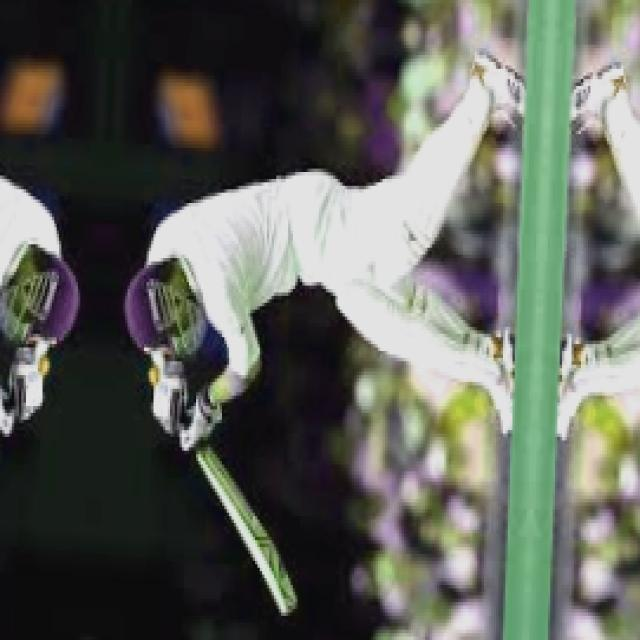toe: (262, 552, 297, 617)
